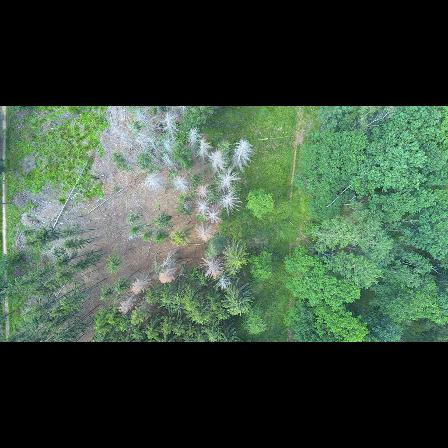Dead: (112, 122, 142, 156), (134, 108, 162, 143), (135, 137, 168, 165), (230, 138, 253, 167), (126, 274, 151, 297), (218, 191, 242, 214), (214, 168, 239, 189), (141, 168, 164, 189), (200, 256, 220, 280), (112, 293, 137, 311), (156, 264, 176, 286), (164, 114, 179, 142), (172, 177, 192, 197), (191, 181, 212, 200), (214, 270, 231, 291), (214, 149, 228, 174), (164, 150, 179, 172), (186, 126, 197, 154), (200, 139, 211, 165), (194, 202, 211, 217), (206, 208, 221, 224), (161, 138, 174, 154)
